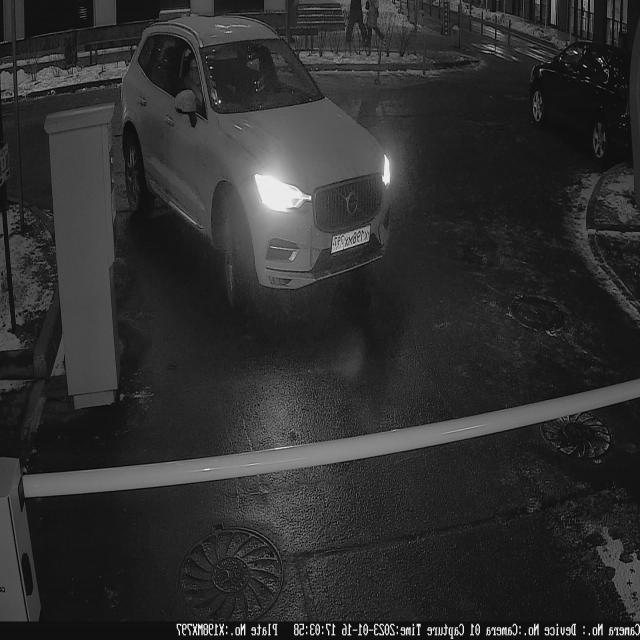car-plate-numbers: (330, 222, 374, 266)
